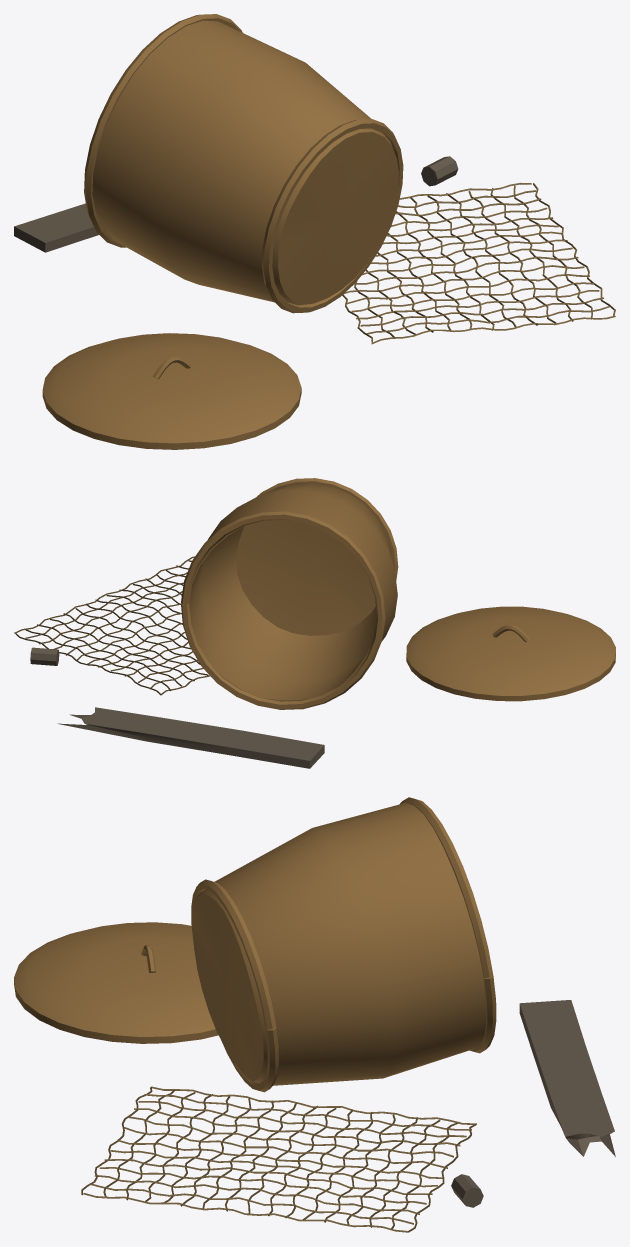
File: fischerkorb_kaputt.glb
3 renders of one model, top to bottom at view 1: azimuth 30°, elevation 25°; view 2: azimuth 150°, elevation 25°; view 3: azimuth 270°, elevation 25°, orthographic. The views are drawn at different scales.
Visible parts, largest first — view 1: fischerkorb_kaputt; view 2: fischerkorb_kaputt; view 3: fischerkorb_kaputt.
Part boxes in pixels (x1,y1,x2,y2): fischerkorb_kaputt: [14, 14, 615, 449]; fischerkorb_kaputt: [14, 478, 615, 768]; fischerkorb_kaputt: [14, 797, 615, 1232].
Bounding box in the file's own units: 1.92 × 0.7435 × 1.61.
